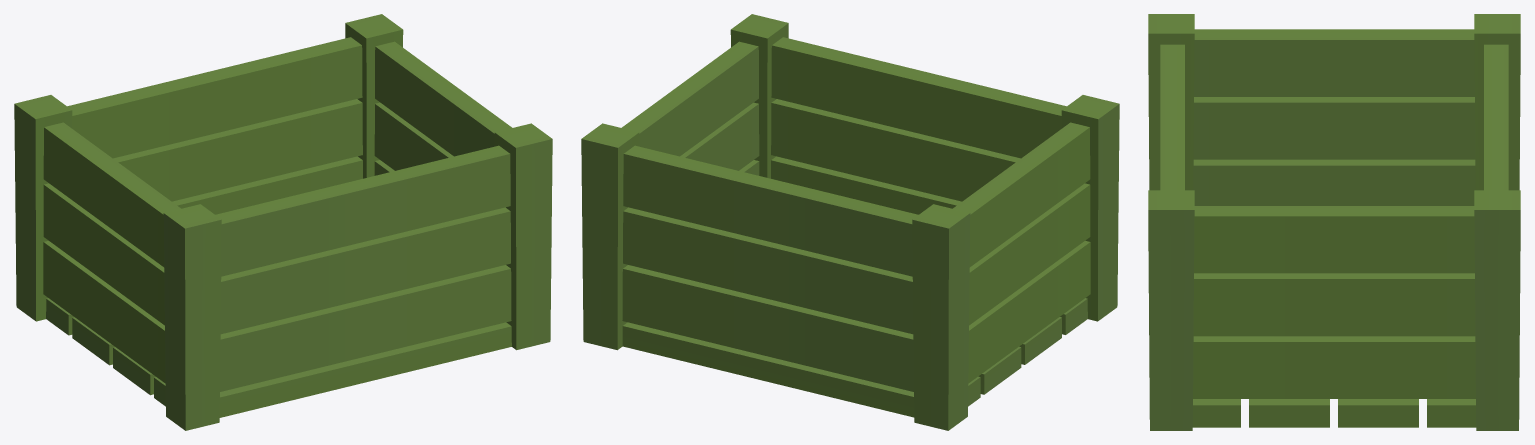
3 renders of one model, left to right at view 1: azimuth 30°, elevation 25°; view 2: azimuth 150°, elevation 25°; view 3: azimuth 270°, elevation 25°, orthographic. The views are drawn at different scales.
Visible parts, largest first — view 1: Box_01; view 2: Box_01; view 3: Box_01.
Part boxes in pixels (x1,y1,x2,y2): Box_01: [14, 14, 552, 430]; Box_01: [581, 14, 1119, 430]; Box_01: [1148, 14, 1520, 430].
Size of the model in its own units: 0.666 by 0.3518 by 0.5355.
